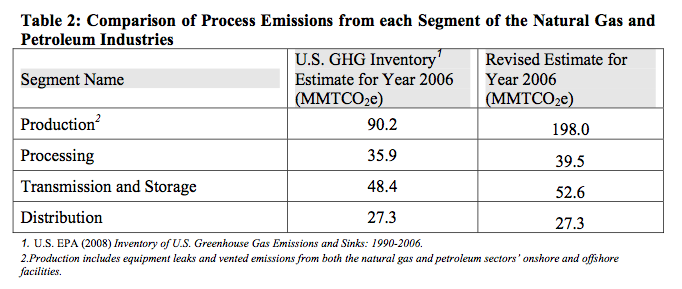fracking table: (9, 6, 669, 236)
